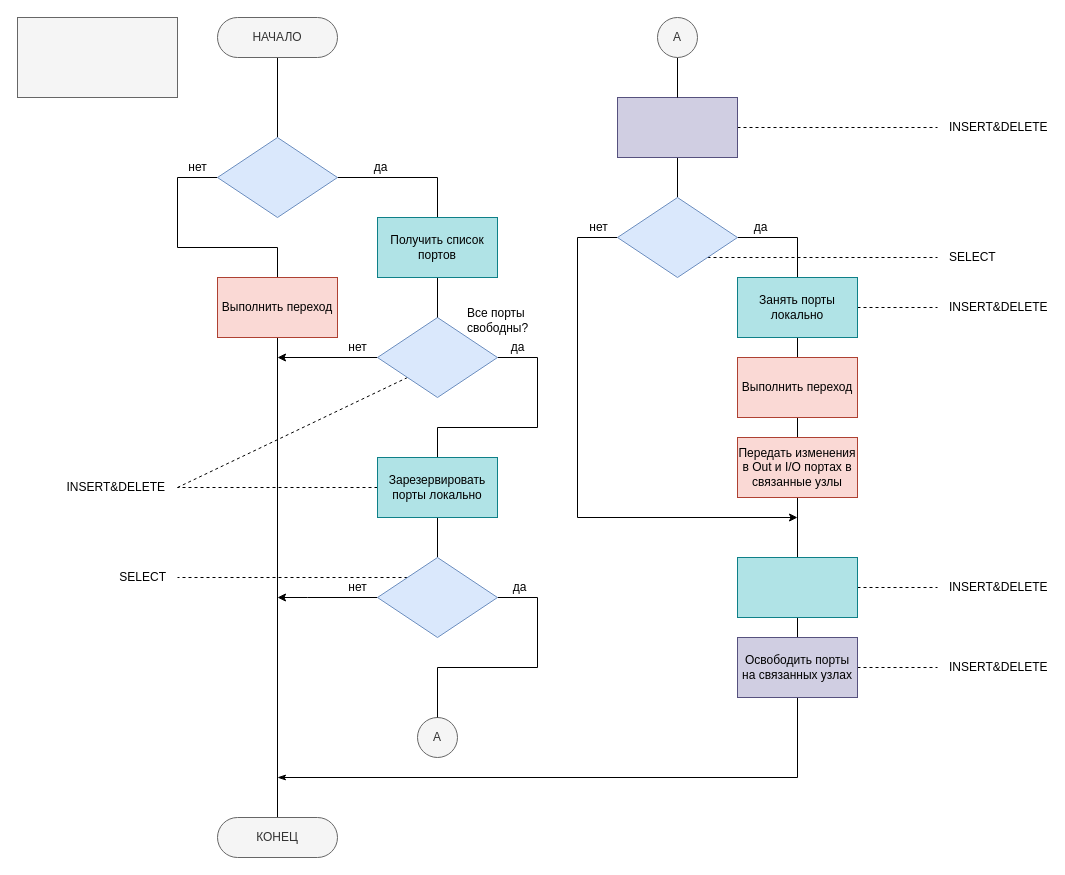
The diagram is 1065 pixels wide and 875 high, and some of its shapes have lost their labels. Here are the shapes that lost their labels. From the top down, the centre of each, then its label:
the point at 97,57: Id перехода Id modes перехода Id входных и выходных позиций перехода
the point at 677,127: Занять порты на связанных узлах
the point at 277,177: Среди входных и выходных позиций есть порты?
the point at 677,237: Все порты успешно заняты?
the point at 437,597: Все порты зарезервированы?
the point at 797,587: Освободить порты локально
